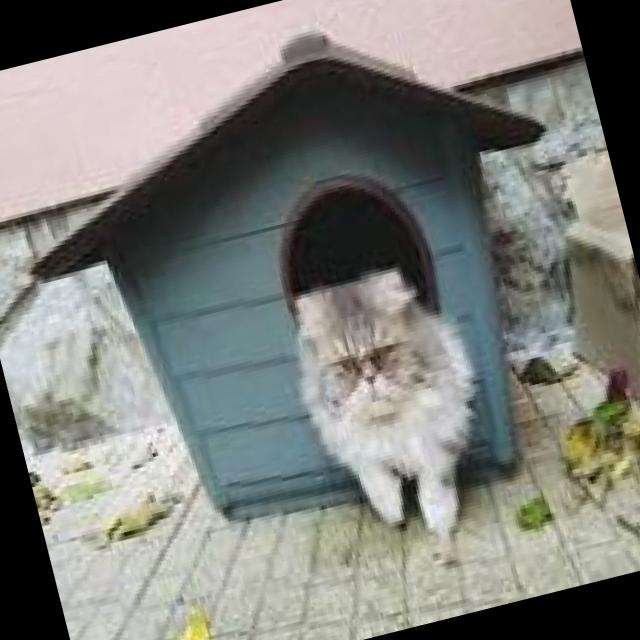Gato: (276, 253, 518, 568)
